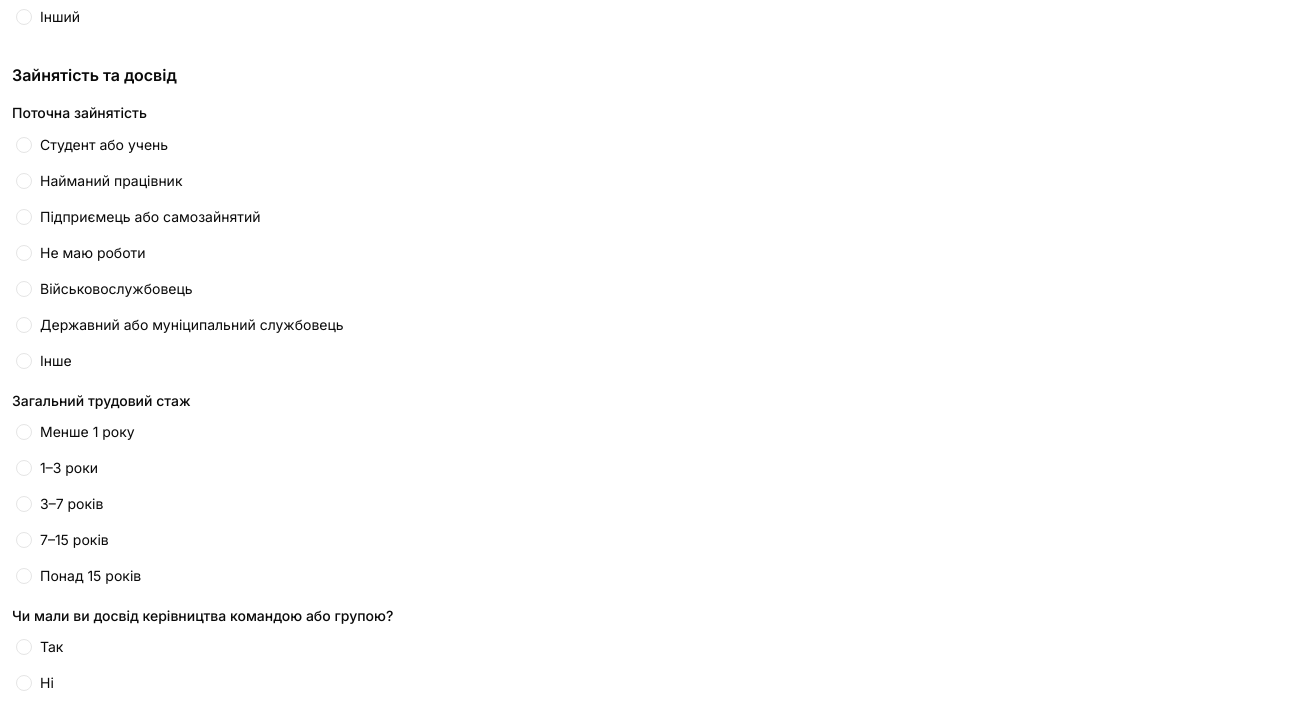
Scenario: BasicInfoBlock — occupation other field › shows text field when Інше occupation is selected
(page scrolled)
Click the text "Інше". click: (56, 360)
box: [40, 350, 72, 370]
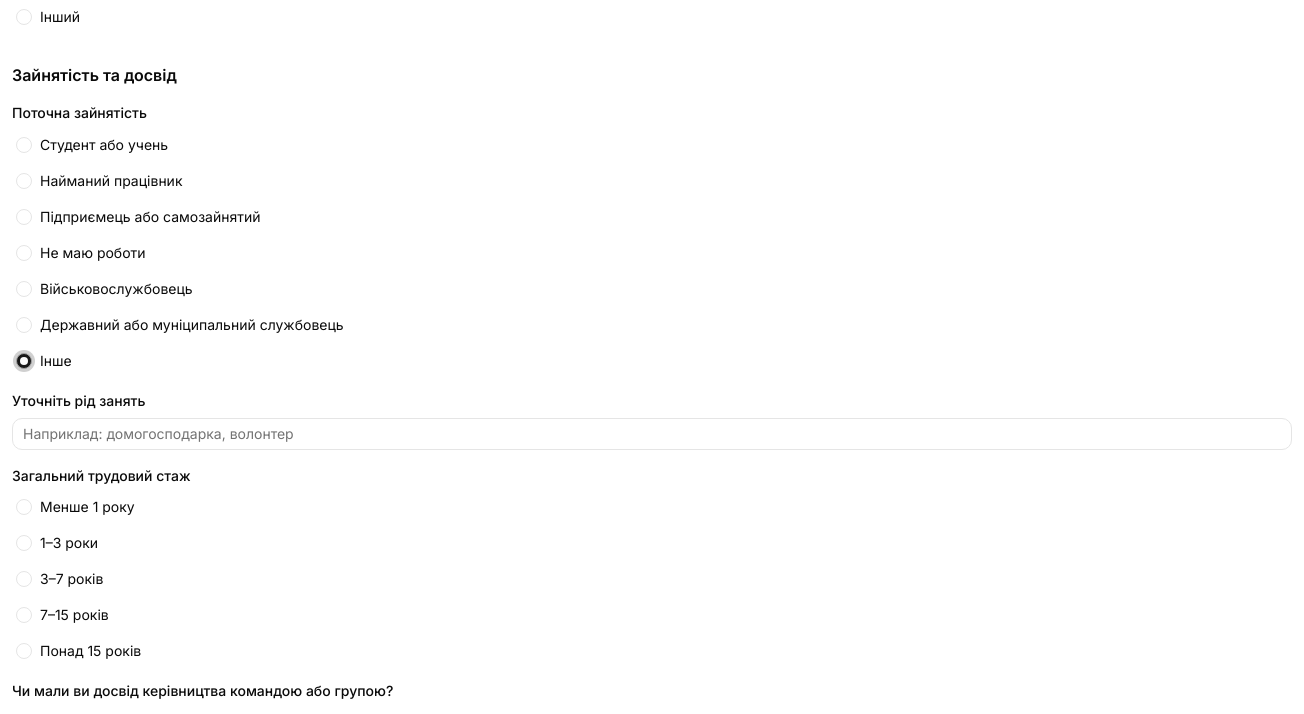
Check: the text "Уточніть рід занять" is shown, box [12, 392, 145, 408]
